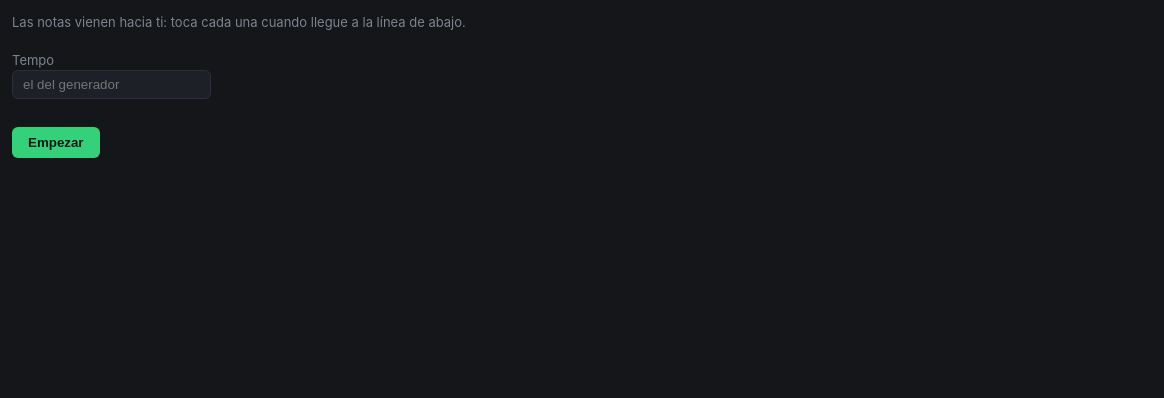
Test case: Carril › al acabar un tramo que no es la pieza entera no dice «Pieza terminada»
Click the button "Empezar": (56, 142) [12,127,100,158]
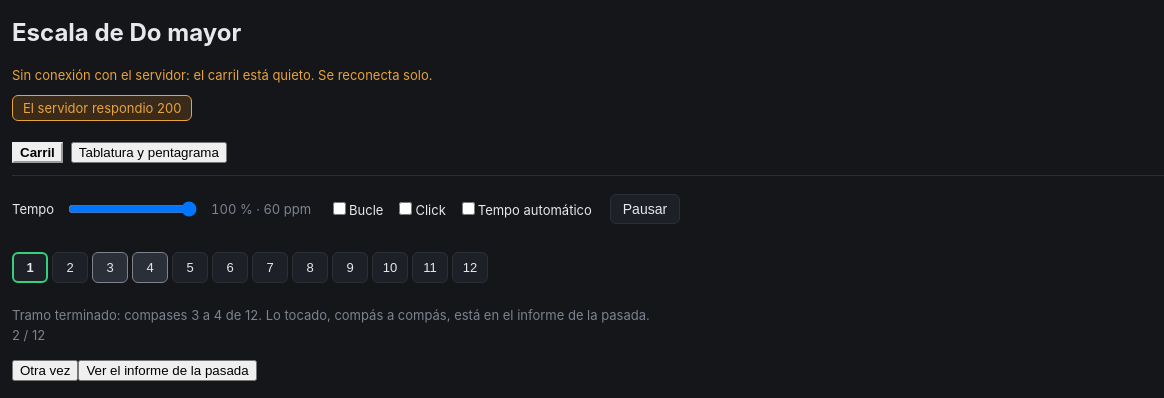
Now the text "Tramo terminado: compases 3 a 4 de 12" is shown, box [12,307,650,323]
